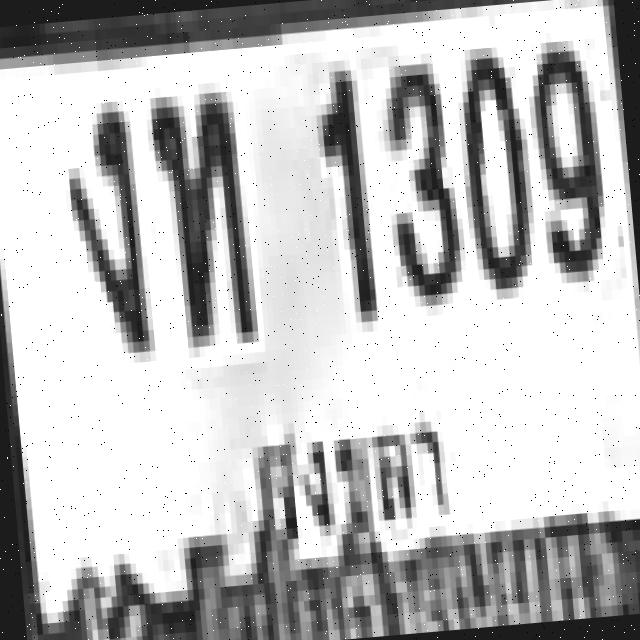0: (452, 35, 534, 291)
1: (312, 64, 372, 318)
16NgorNgu: (56, 95, 149, 352)
3: (377, 51, 458, 298)
32ThorThaHan: (144, 80, 252, 339)
9: (522, 28, 604, 274)
Songkhla: (239, 399, 458, 557)
